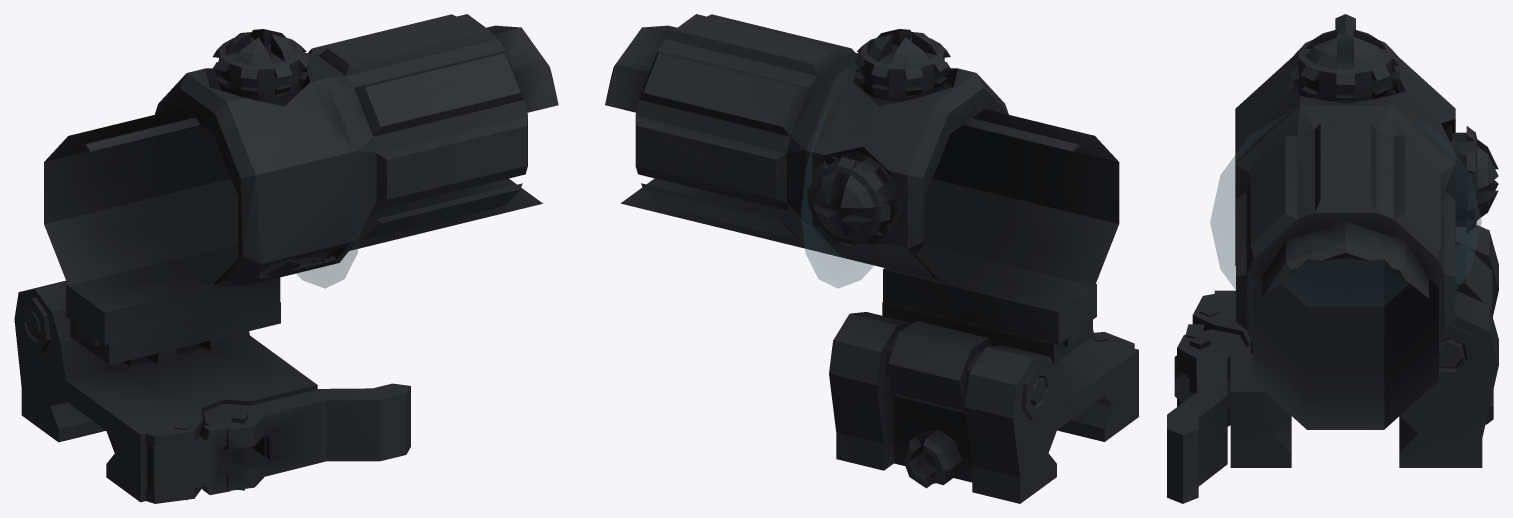
Rendered from k-att-magnified-lp4mgg33.glb.
3 renders of one model, left to right at view 1: azimuth 30°, elevation 25°; view 2: azimuth 150°, elevation 25°; view 3: azimuth 270°, elevation 25°, orthographic. The views are drawn at different scales.
Visible parts, largest first — view 1: kit, lens; view 2: kit, lens; view 3: kit, lens.
Part boxes in pixels (box(x1,y1,x2,y2)): kit: box(14, 14, 558, 503); lens: box(296, 66, 361, 288); kit: box(605, 14, 1138, 503); lens: box(801, 66, 895, 288); kit: box(1167, 14, 1498, 503); lens: box(1210, 99, 1481, 306).
Size of the model in its own units: 0.0858 by 0.0711 by 0.0488.
